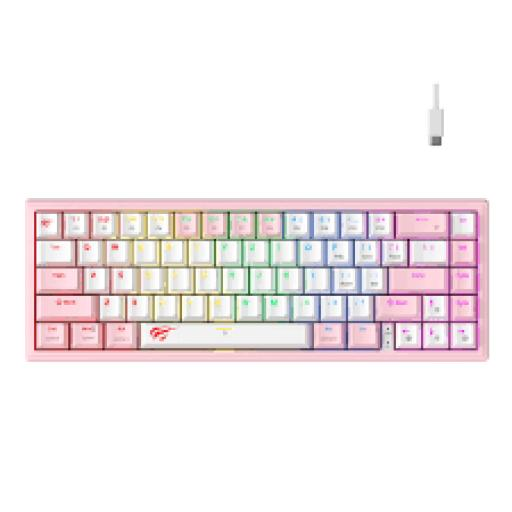keyboard: (25, 198, 487, 357)
